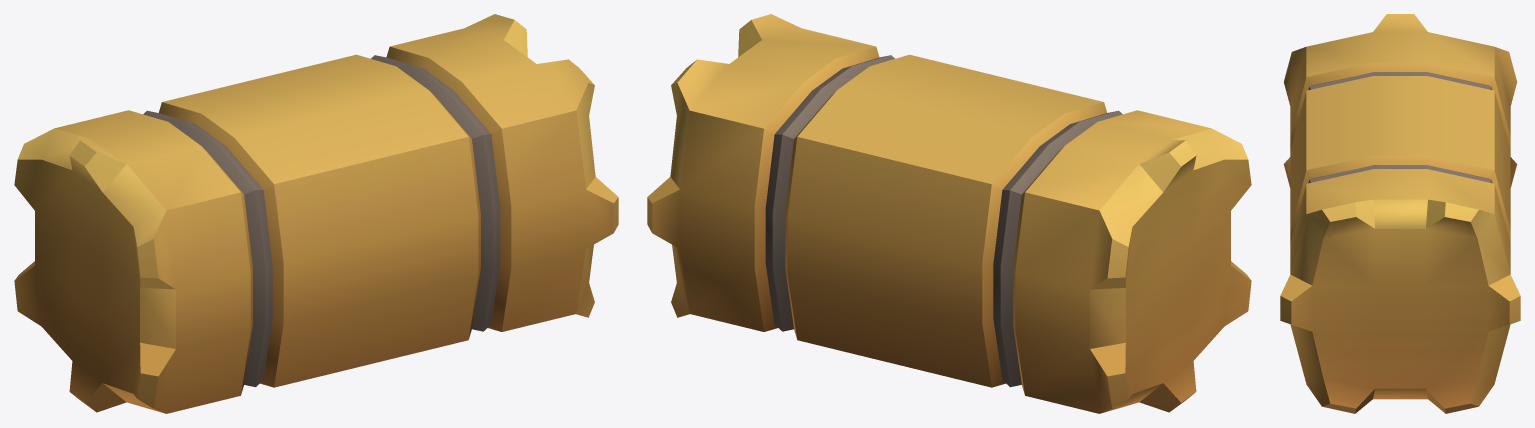
File: haybale.glb
The picture shows the model from 3 angles, left to right: view 1: azimuth 30°, elevation 25°; view 2: azimuth 150°, elevation 25°; view 3: azimuth 270°, elevation 25°; orthographic projection. The views are drawn at different scales.
Parts seen in each view (by area): view 1: haybale; view 2: haybale; view 3: haybale.
Part boxes in pixels (x1,y1,x2,y2): haybale: (14,14,618,413); haybale: (647,14,1251,413); haybale: (1280,14,1520,413).
Size of the model in its own units: 2.09 by 1.09 by 1.09.
1 material, 1 textured.
